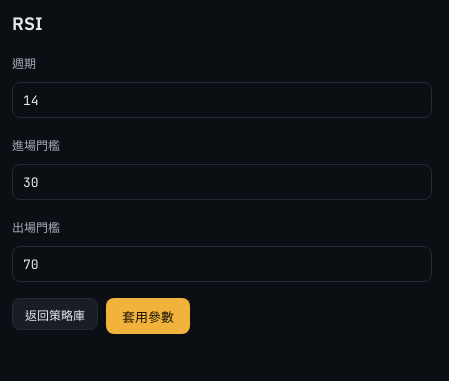
Test case: StrategyParamForm › RSI：門檻超出 0～100 範圍時顯示錯誤
Replace the text in the field labelled "進場門檻" with "120" at (222, 182), box 12,164 -> 432,200
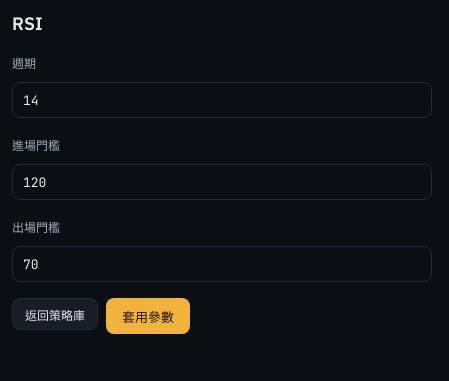
Click the button "套用參數".
click(148, 316)  # box 106,298 -> 190,334
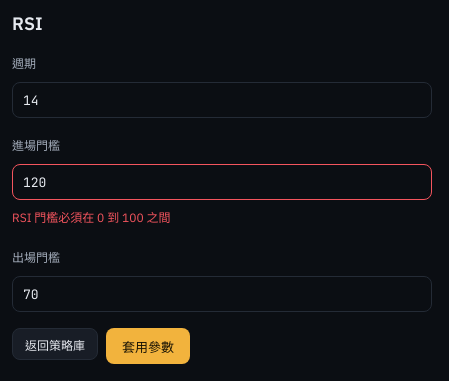
Check: the text "RSI 門檻必須在 0 到 100 之間" is shown, box 12,210 -> 170,225
